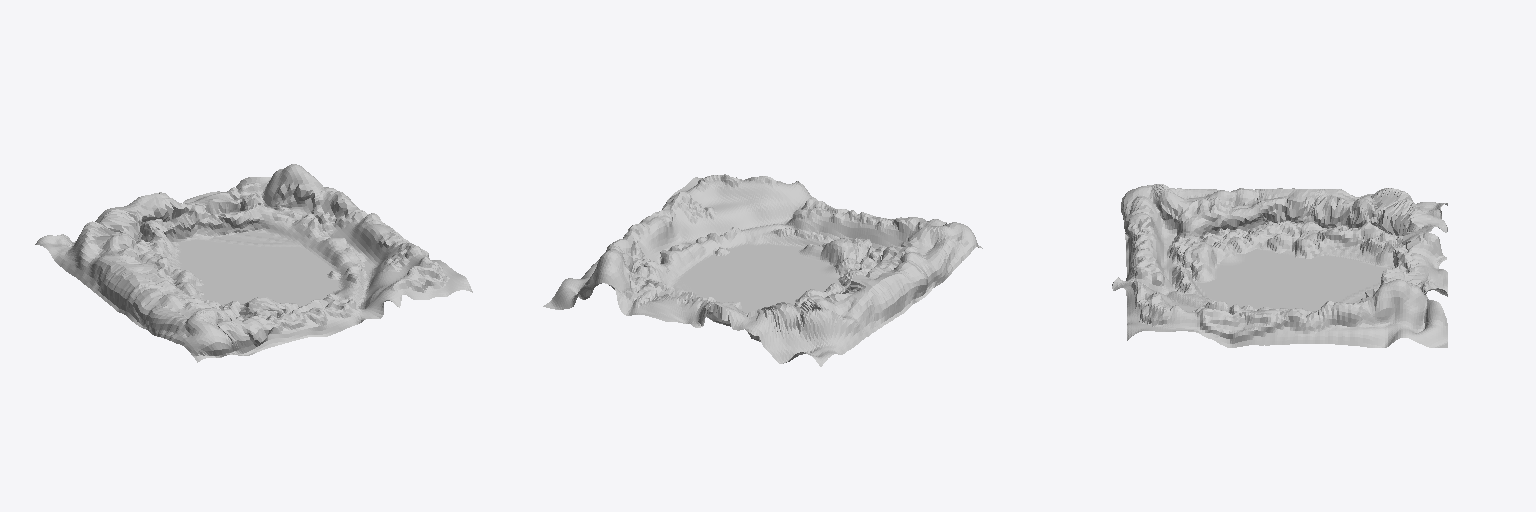
File: background.OBJ
3 renders of one model, left to right at view 1: azimuth 30°, elevation 25°; view 2: azimuth 150°, elevation 25°; view 3: azimuth 270°, elevation 25°, orthographic.
Parts seen in each view (by area): view 1: ZBrush_defualt_group; view 2: ZBrush_defualt_group; view 3: ZBrush_defualt_group.
Boxes of the visible parts, x1,y1,x2,y2 form: ZBrush_defualt_group: [35, 164, 472, 362]; ZBrush_defualt_group: [543, 174, 982, 366]; ZBrush_defualt_group: [1112, 184, 1447, 347].
Bounding box in the file's own units: 1.32 × 0.2099 × 1.36.